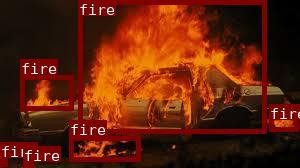fire: (77, 0, 266, 133), (20, 74, 73, 110), (69, 135, 139, 161), (269, 104, 297, 131), (0, 157, 7, 165), (22, 162, 32, 166)
